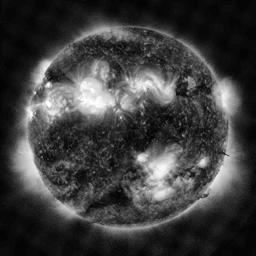solar flares: (73, 78, 110, 117), (42, 88, 65, 121), (147, 155, 175, 179), (147, 78, 176, 99), (145, 180, 172, 201), (112, 97, 134, 120), (133, 152, 154, 167), (126, 76, 147, 91)
sunspots: (106, 41, 140, 59), (89, 191, 126, 206), (53, 141, 80, 161), (128, 127, 152, 149), (89, 130, 110, 150), (190, 171, 209, 188), (191, 127, 214, 141), (76, 171, 96, 186), (153, 111, 168, 130), (182, 88, 199, 102), (47, 71, 63, 83), (200, 84, 211, 96)
